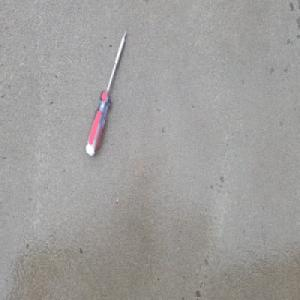Screwdriver: (84, 27, 128, 158)
